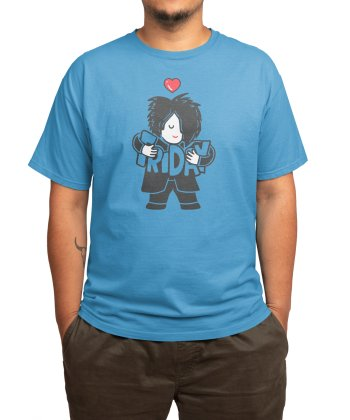design: (129, 76, 217, 212)
